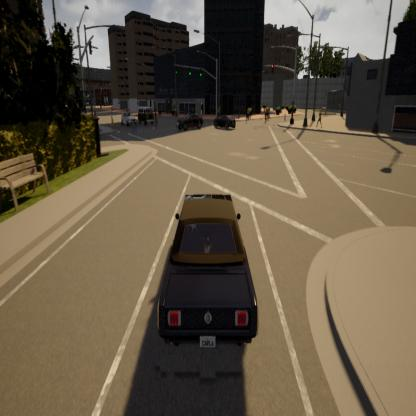Cars: (145, 180, 272, 359), (174, 108, 206, 136), (214, 114, 238, 136), (139, 106, 154, 130), (120, 112, 137, 132)
Pedestrian: (318, 108, 324, 134), (154, 106, 160, 130), (264, 106, 268, 128), (111, 112, 115, 132), (133, 117, 137, 135), (268, 106, 271, 126), (248, 106, 250, 126)
